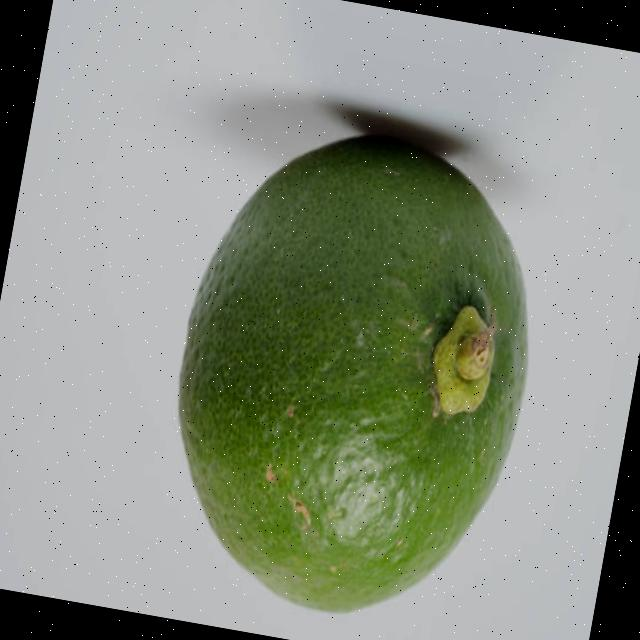Lemon: (142, 106, 564, 640)
